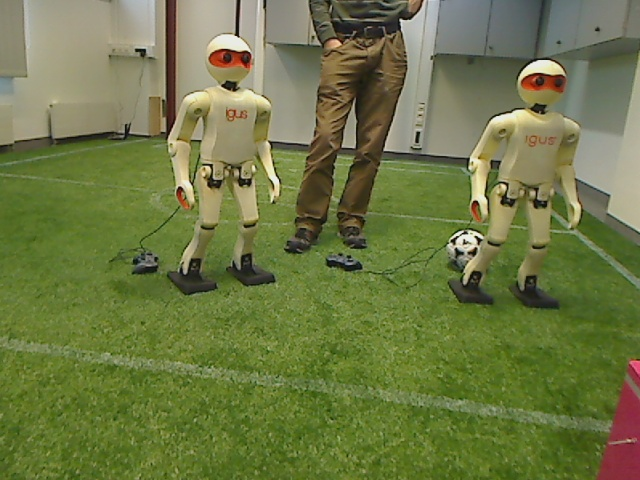ball: (445, 229, 488, 271)
robot: (459, 57, 584, 313), (166, 31, 286, 297)
